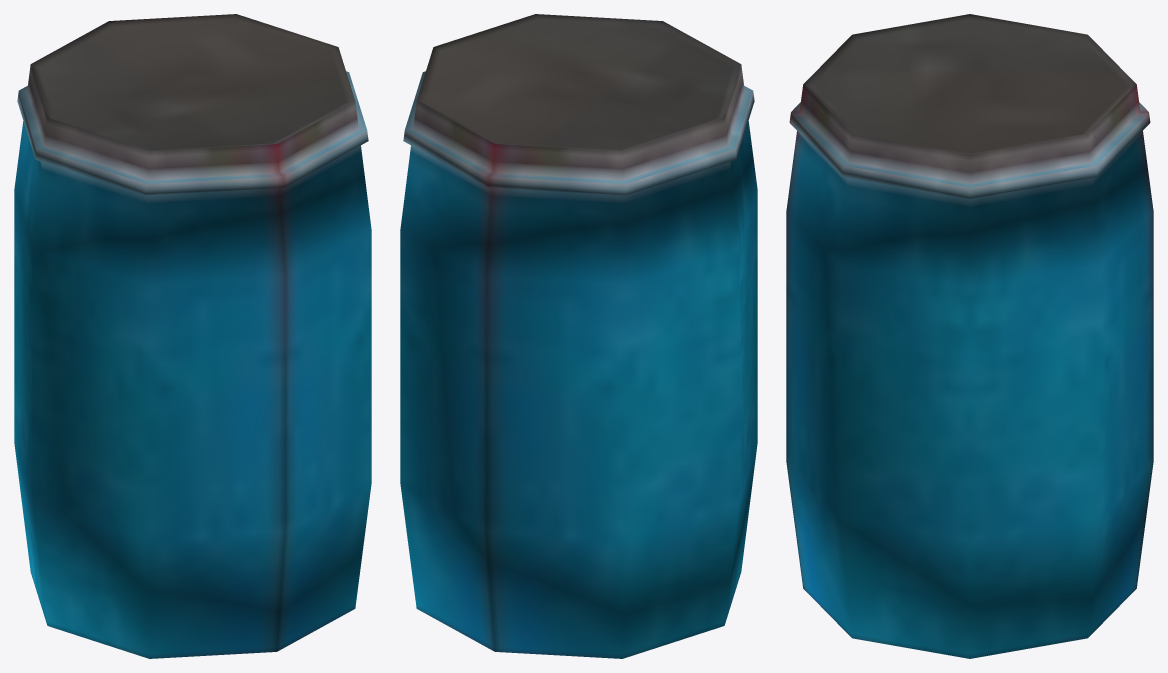
The model's file is psx_industrial_pack_barrel_water.glb.
3 renders of one model, left to right at view 1: azimuth 30°, elevation 25°; view 2: azimuth 150°, elevation 25°; view 3: azimuth 270°, elevation 25°, orthographic.
Visible parts, largest first — view 1: BarrelWater; view 2: BarrelWater; view 3: BarrelWater.
Part boxes in pixels (left/top/right/bottom): BarrelWater: left=14, top=14, right=371, bottom=658; BarrelWater: left=400, top=14, right=757, bottom=658; BarrelWater: left=786, top=14, right=1153, bottom=658.
Size of the model in its own units: 0.66 by 1 by 0.66.
1 material, 1 textured.
